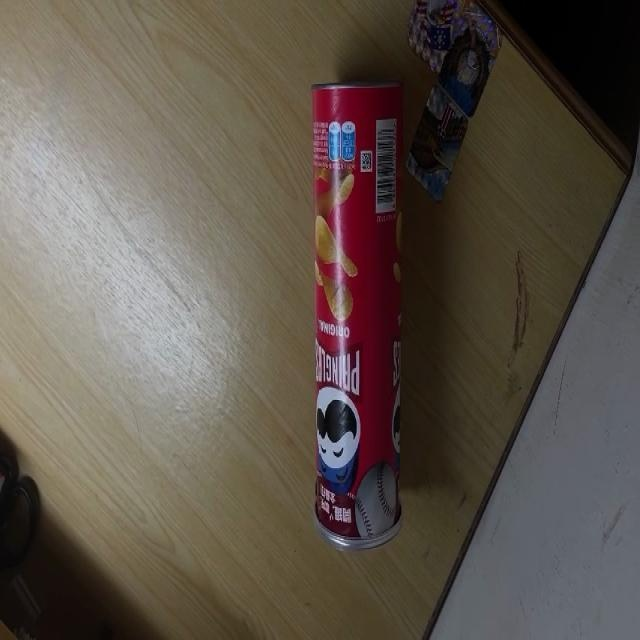Pringles: (309, 79, 403, 554)
